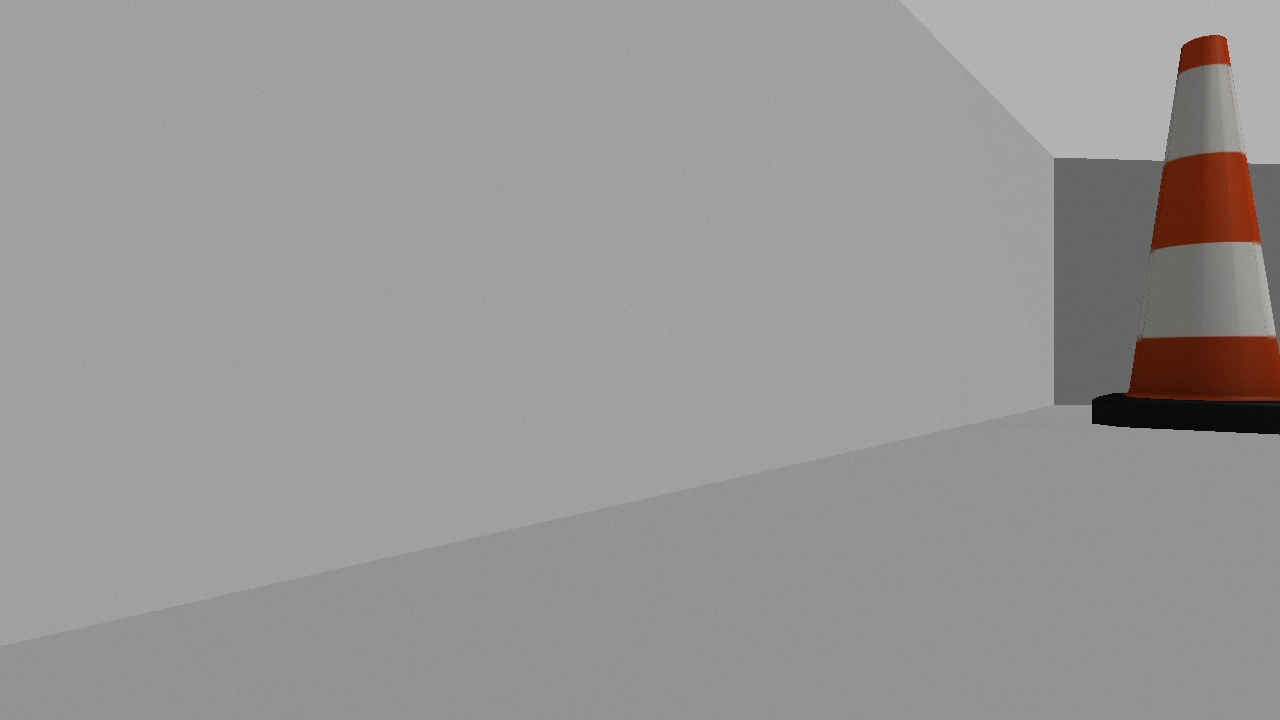barricade: (1090, 35, 1280, 435)
